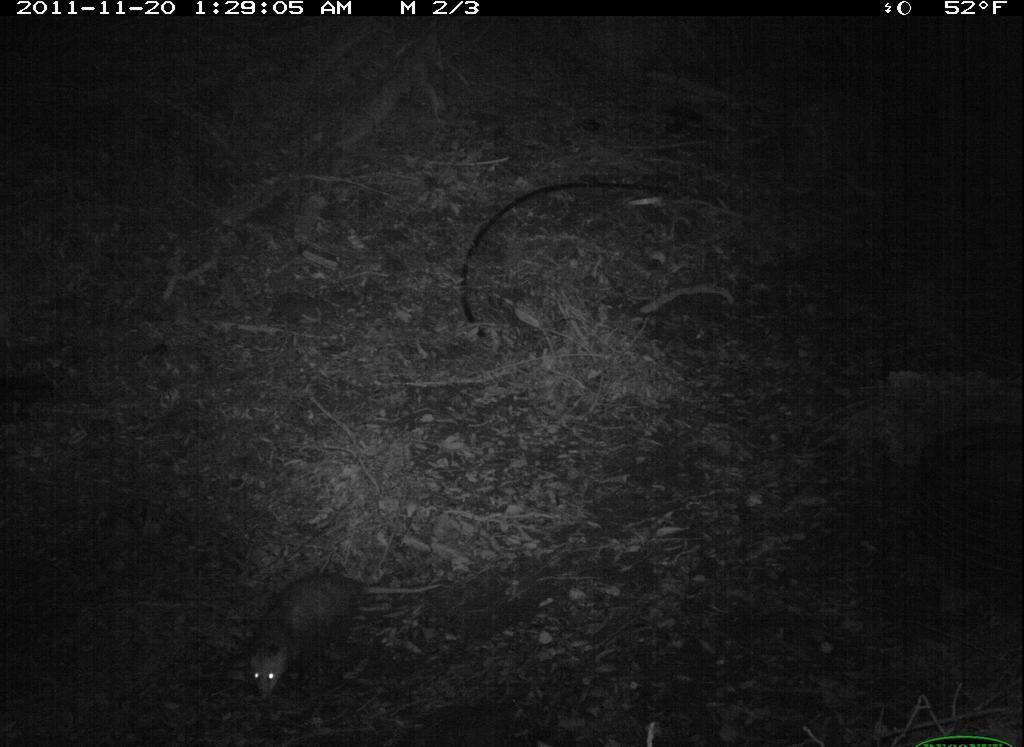opossum: (219, 564, 447, 710)
